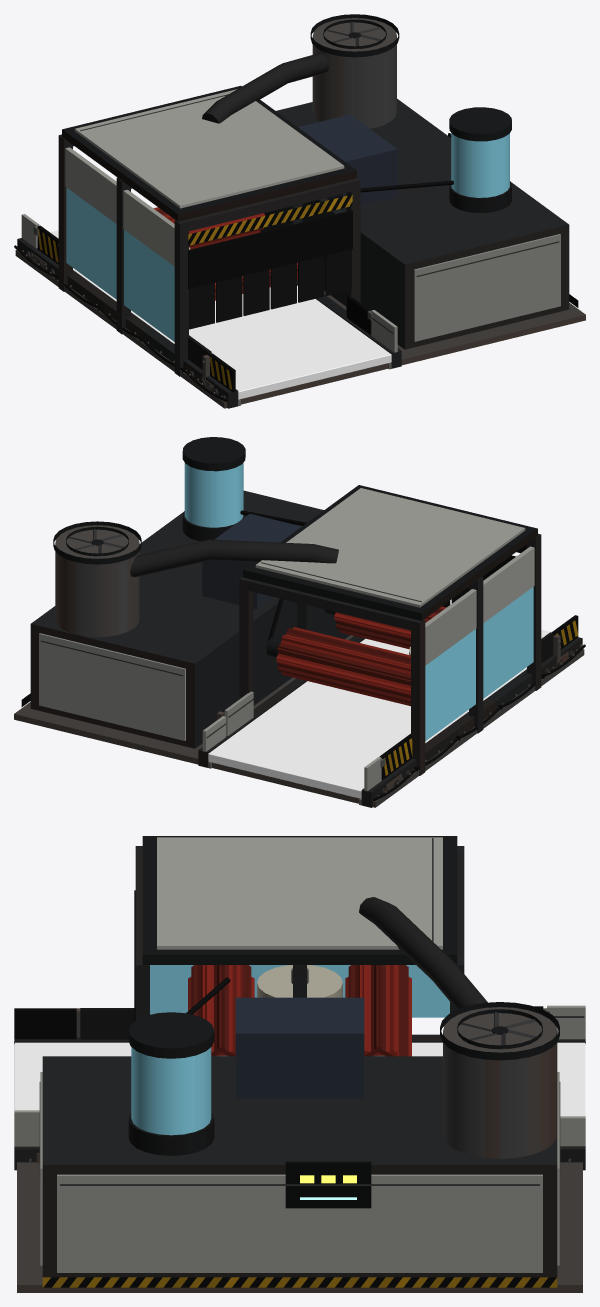
The model's file is polisher.glb.
3 views of the same model, one above another, from view 1: azimuth 30°, elevation 25°; view 2: azimuth 150°, elevation 25°; view 3: azimuth 270°, elevation 25° (orthographic). The views are drawn at different scales.
Visible parts, largest first — view 1: Frame, Belt, BrushB; view 2: Frame, Belt, BrushB, BrushA; view 3: Frame, Belt, BrushB, BrushA, Buffer, Fan.
Part boxes in pixels (<box>): Frame: <box>14,14,585,408</box>; Belt: <box>50,206,391,399</box>; BrushB: <box>153,207,264,249</box>; Frame: <box>14,437,585,807</box>; Belt: <box>208,629,551,798</box>; BrushB: <box>276,627,410,706</box>; BrushA: <box>334,606,446,648</box>; Frame: <box>14,836,585,1292</box>; Belt: <box>14,1042,585,1116</box>; BrushB: <box>345,965,411,1056</box>; BrushA: <box>188,965,254,1056</box>; Buffer: <box>257,965,342,997</box>; Fan: <box>461,1012,539,1049</box>.
Bounding box in the file's own units: 3.99 × 1.85 × 4.
